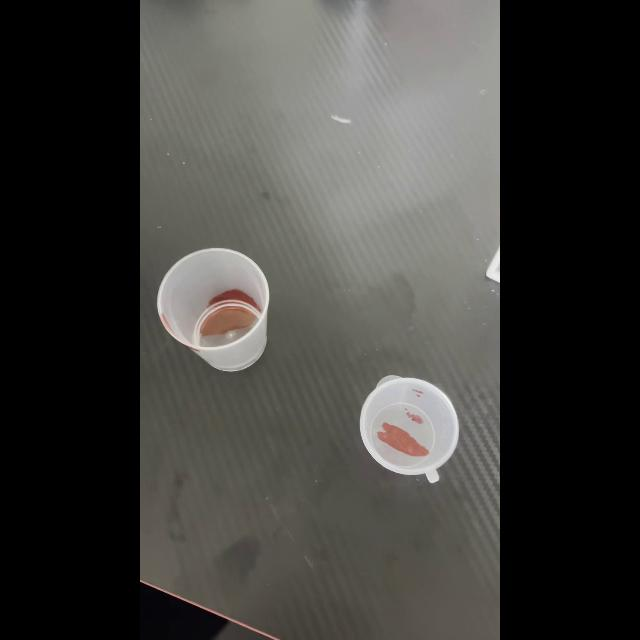dirty: (157, 248, 270, 374), (364, 372, 458, 481)
